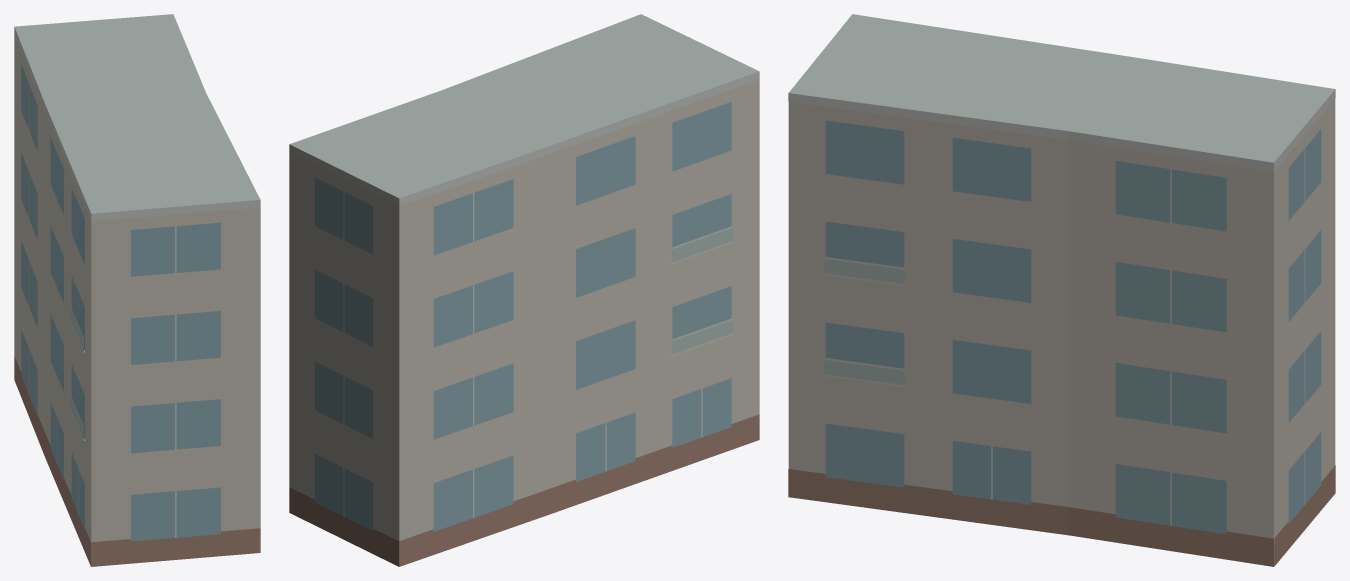
The model's file is survey-upis-32610405.glb.
3 views of the same model, side by side, from view 1: azimuth 30°, elevation 25°; view 2: azimuth 150°, elevation 25°; view 3: azimuth 270°, elevation 25° (orthographic). The views are drawn at different scales.
Parts seen in each view (by area): view 1: survey-upis-32610405.tmp; view 2: survey-upis-32610405.tmp; view 3: survey-upis-32610405.tmp.
Boxes of the visible parts, <box> form: survey-upis-32610405.tmp: <box>14,14,260,566</box>; survey-upis-32610405.tmp: <box>289,14,759,566</box>; survey-upis-32610405.tmp: <box>788,14,1335,566</box>.
Bounding box in the file's own units: 8.85 × 11.2 × 13.75.
